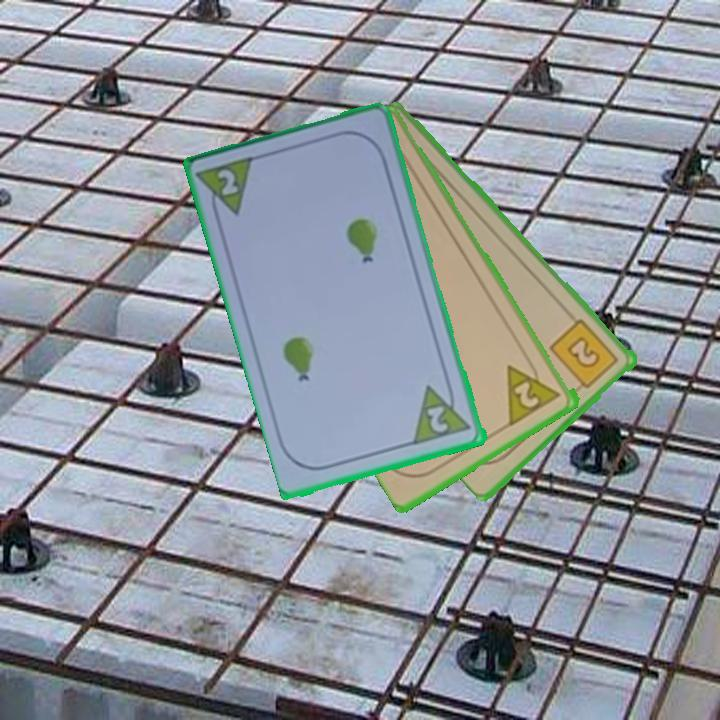2b: (547, 315, 622, 396)
2p: (503, 352, 566, 428), (195, 152, 259, 226), (424, 402, 452, 436)
